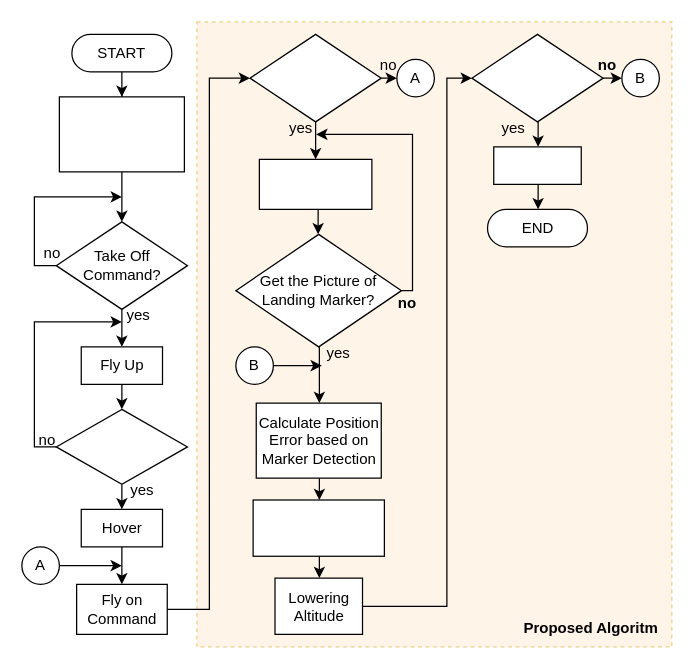
This 694x669 diagram has some shape labels left out. Each missing label, with the box of its shape:
At Land?: (471, 33, 603, 122)
Fly to Take-Off Location: (258, 158, 372, 209)
Fly to the center of the Marker: (252, 499, 384, 556)
Height >= 3m?: (55, 408, 188, 484)
Initializing Sensor Read Parameter Save Take-Off Location: (58, 96, 184, 172)
Landing Command?: (249, 33, 381, 122)
Motor Stop: (492, 146, 581, 184)
